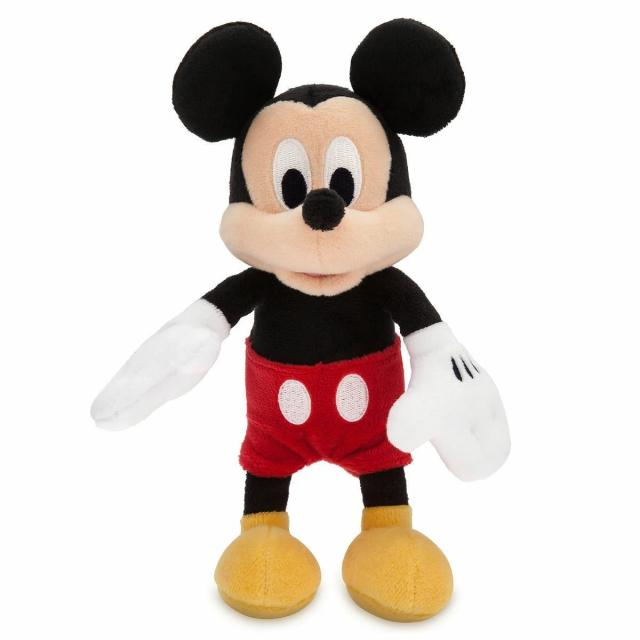mickey: (93, 20, 509, 621)
